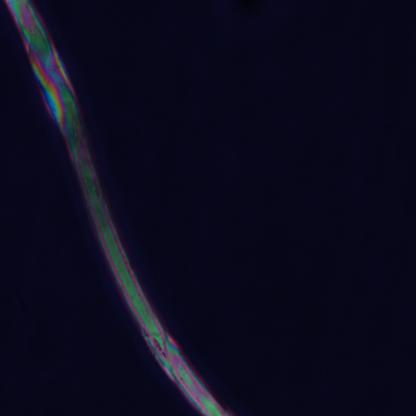Microfibre: (5, 2, 233, 414)
